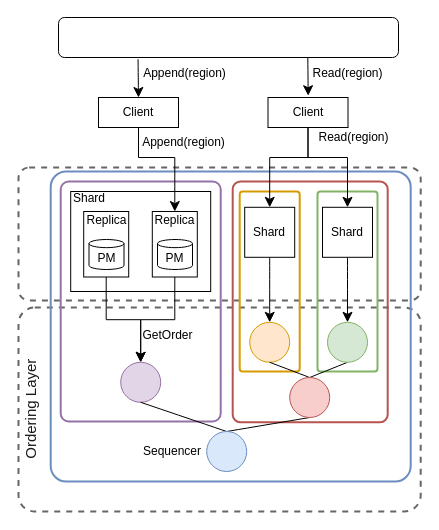
Image size: 439x530. Some labels were removed from this diagram. Each missing label, with the centre of its shape:
Distributed Application: (228,37)
Replication Layer: (219,233)
